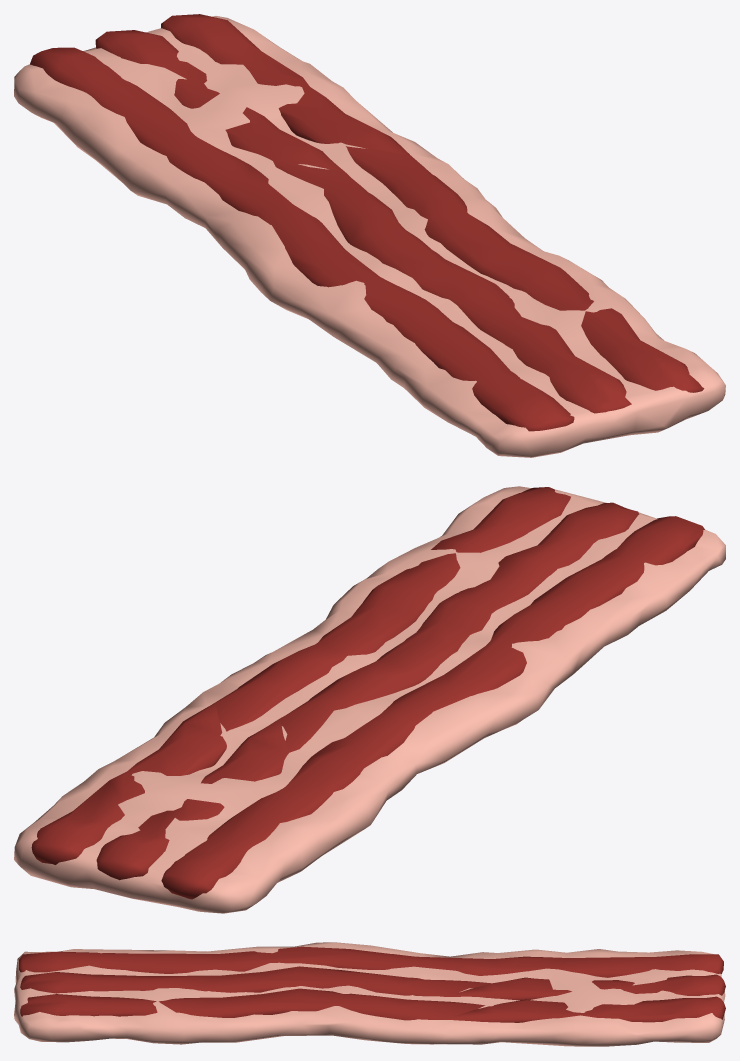
Rendered from Food (11).fbx.
3 views of the same model, one above another, from view 1: azimuth 30°, elevation 25°; view 2: azimuth 150°, elevation 25°; view 3: azimuth 270°, elevation 25° (orthographic). The views are drawn at different scales.
Parts seen in each view (by area): view 1: Plane.044; view 2: Plane.044; view 3: Plane.044.
Part boxes in pixels (x1=…): Plane.044: x1=14, y1=14, x2=725, y2=457; Plane.044: x1=14, y1=486, x2=725, y2=913; Plane.044: x1=14, y1=942, x2=725, y2=1046.
Size of the model in its own units: 4.43 by 0.809 by 14.79.
